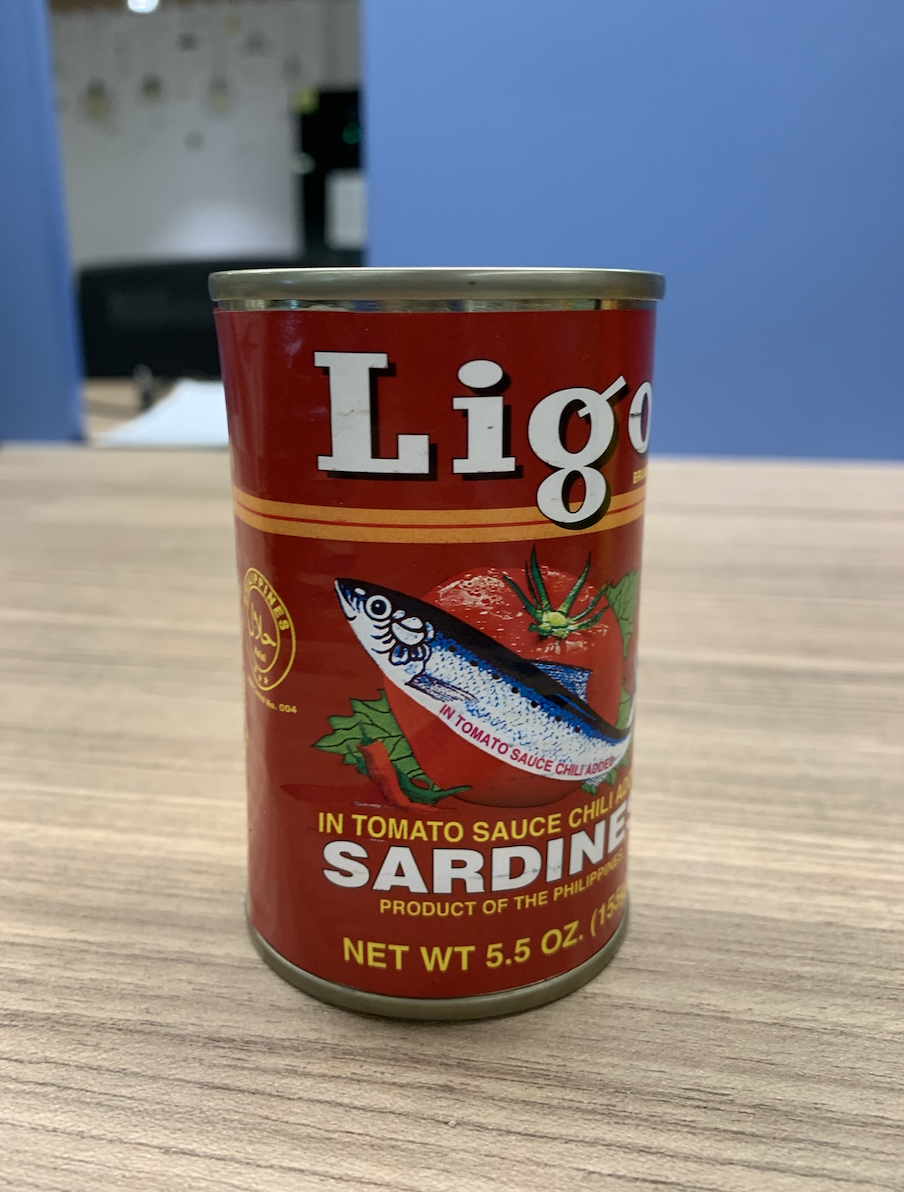sardines_100g-199g: (240, 331, 630, 972)
